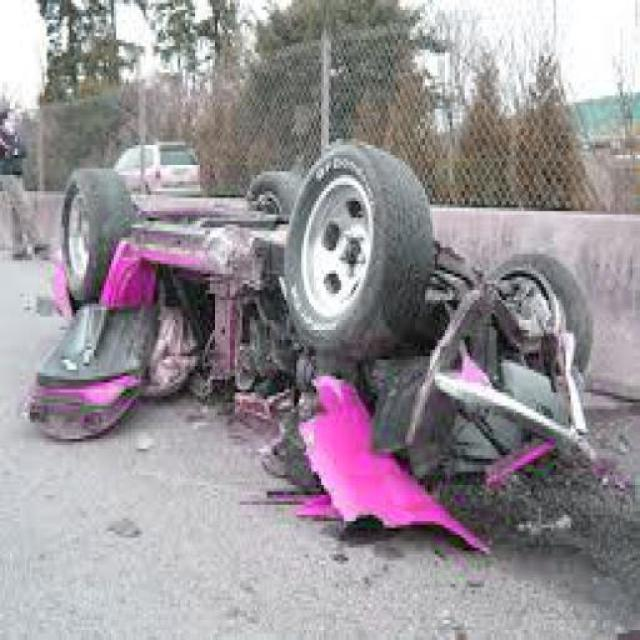Car-Damage: (29, 201, 579, 556)
